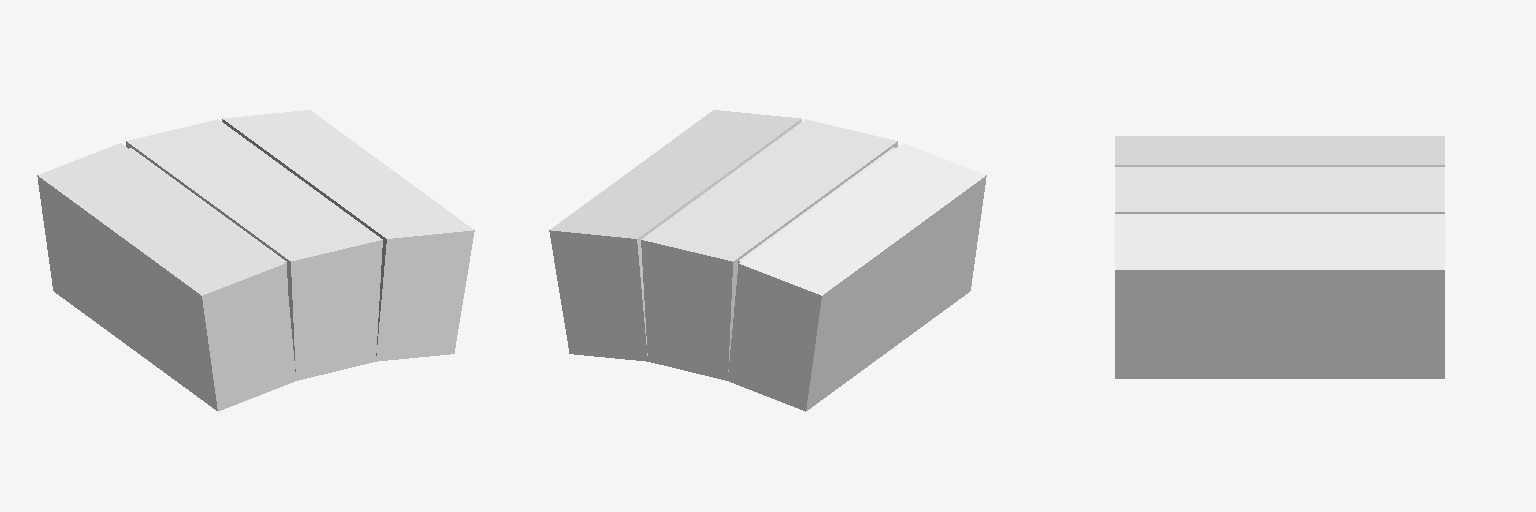
The model's file is generic_segmental_arch_3_middle.obj.
The picture shows the model from 3 angles: view 1: azimuth 30°, elevation 25°; view 2: azimuth 150°, elevation 25°; view 3: azimuth 270°, elevation 25°; orthographic projection.
Visible parts, largest first — view 1: cube.062, cube.061, cube.060; view 2: cube.062, cube.061, cube.060; view 3: cube.060, cube.061, cube.062.
Boxes of the visible parts, <box> form: cube.062: <box>37,143,295,411</box>; cube.061: <box>126,119,382,380</box>; cube.060: <box>222,110,474,361</box>; cube.062: <box>728,143,986,411</box>; cube.061: <box>641,119,897,380</box>; cube.060: <box>549,110,801,361</box>; cube.060: <box>1115,214,1444,378</box>; cube.061: <box>1115,167,1444,213</box>; cube.062: <box>1115,136,1444,166</box>.
Size of the model in its own units: 1.08 by 0.499 by 1.13.